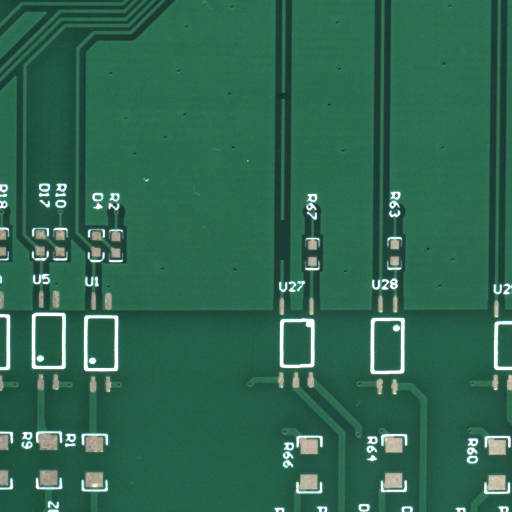Open_circuit: (282, 239, 293, 284), (282, 94, 294, 107)
